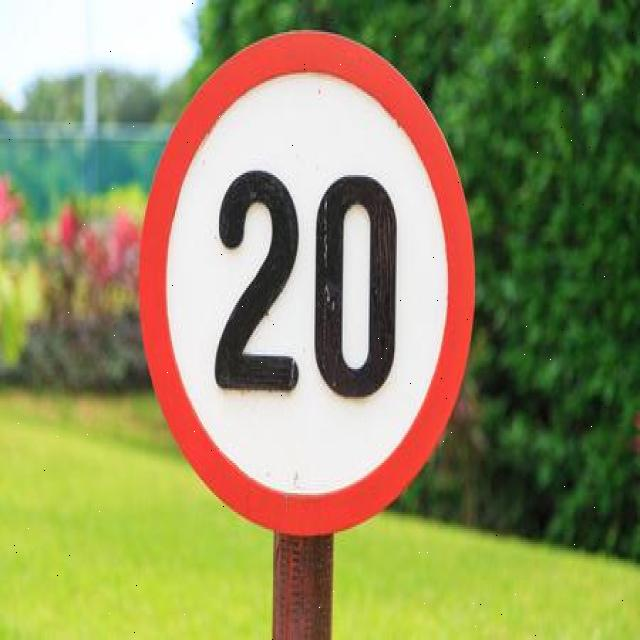speed limit 20: (140, 30, 474, 537)
